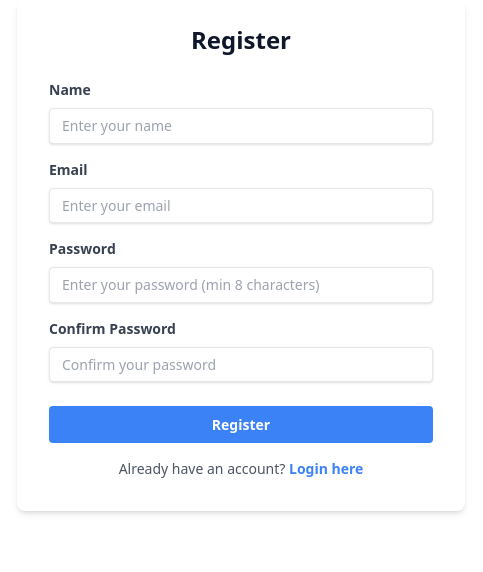
Test: RegisterForm › should show validation error for password less than 8 characters
Type "John Doe" into the field labelled "Name". click: x=241, y=126
box: [49,108,433,144]
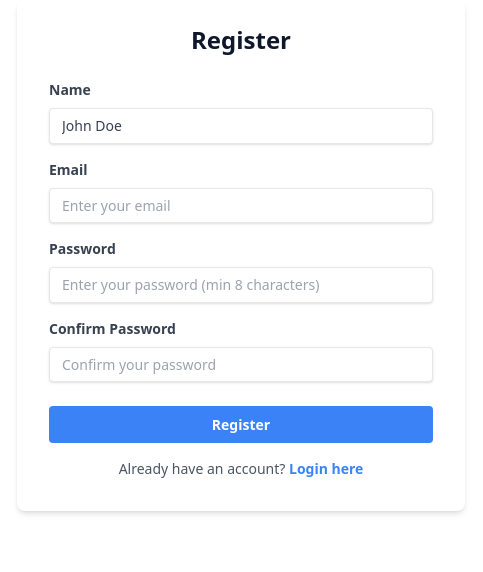
Type "test@example.com" into the field labelled "Email". click: x=241, y=205
box: [49,188,433,223]
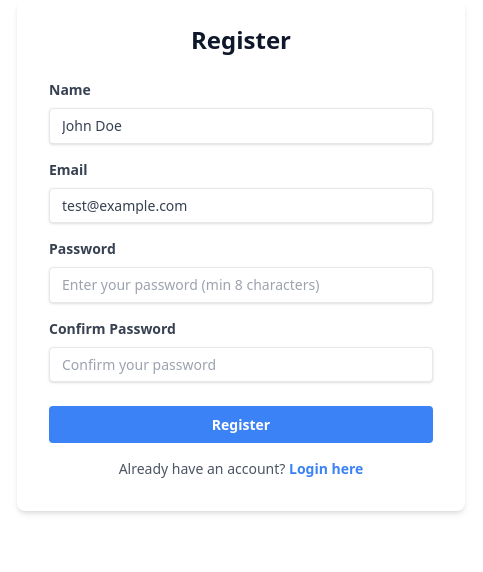
Type "short" into the password field labelled "Password". click: x=241, y=285
box: [49,267,433,302]
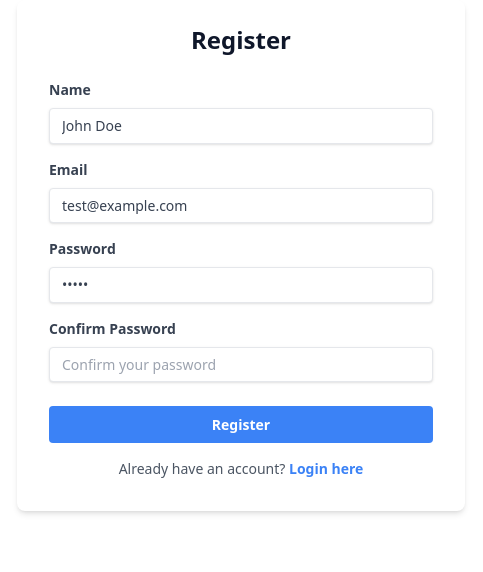
Click the button "Register". click: x=241, y=424
box: [49,406,433,443]
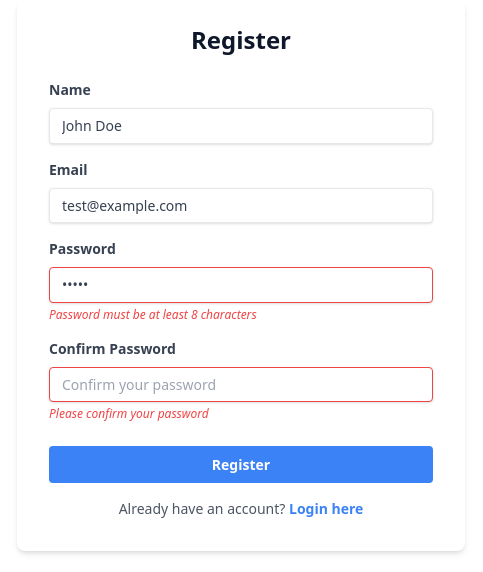
Now the text "Password must be at least 8 characters" is shown, box [49,306,257,322]
